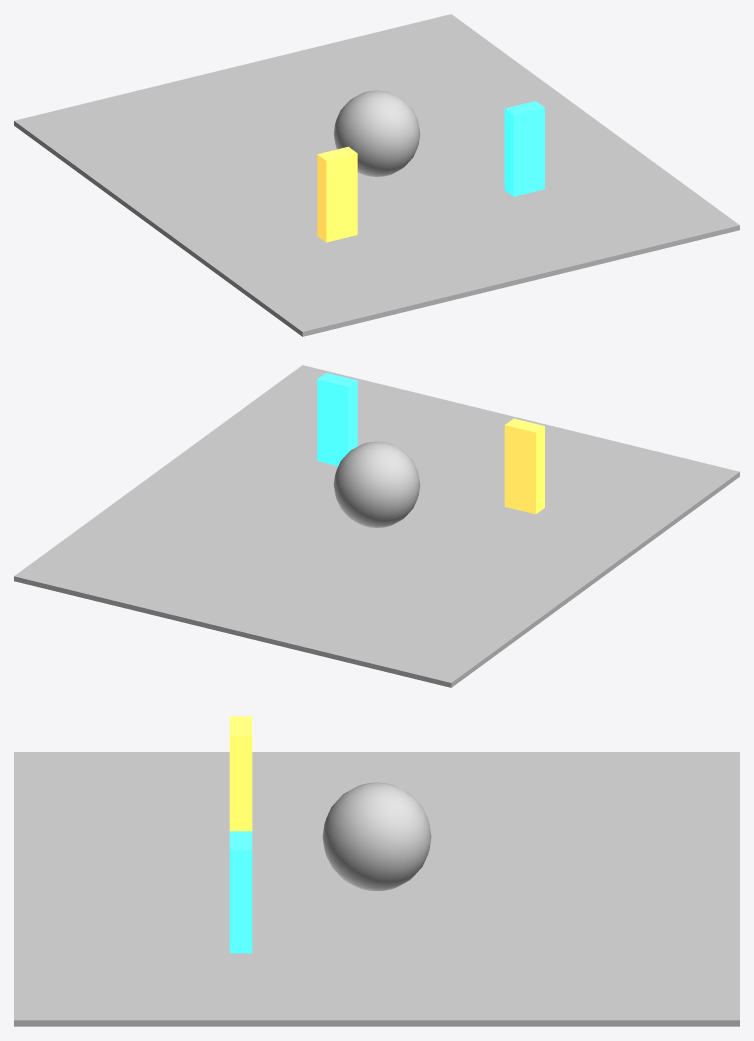
The model's file is reflection_probes.gltf.
3 views of the same model, one above another, from view 1: azimuth 30°, elevation 25°; view 2: azimuth 150°, elevation 25°; view 3: azimuth 270°, elevation 25° (orthographic). The views are drawn at different scales.
Parts seen in each view (by area): view 1: Exhibit; view 2: Exhibit; view 3: Exhibit.
Boxes of the visible parts, x1,y1,x2,y2 form: Exhibit: (14, 14, 739, 336); Exhibit: (14, 365, 739, 687); Exhibit: (14, 716, 739, 1026).
Bounding box in the file's own units: 14 × 2.65 × 16.
